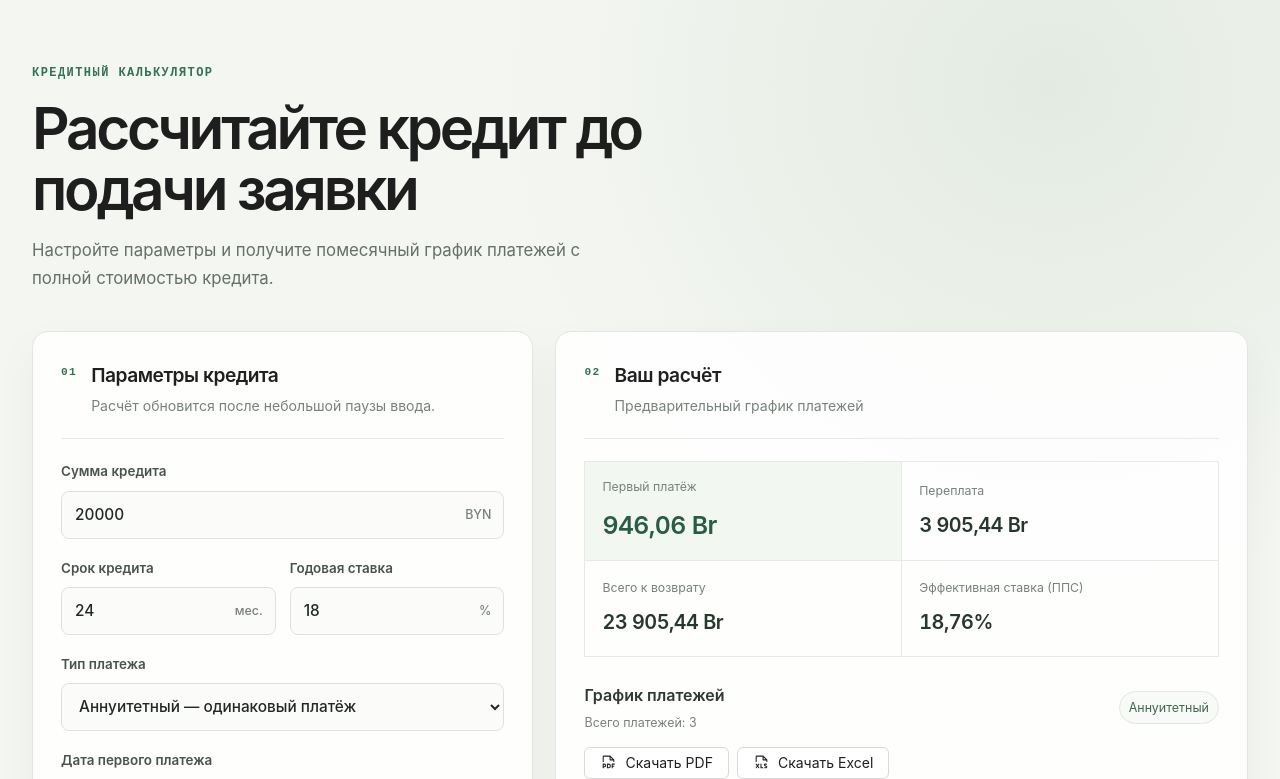
Scenario: CalculatorPage › shows a validation error when the term is out of range
Replace the text in the number field labelled "Срок кредита мес." with "300": (168, 611) [61,587,276,635]
Wait 100 ms
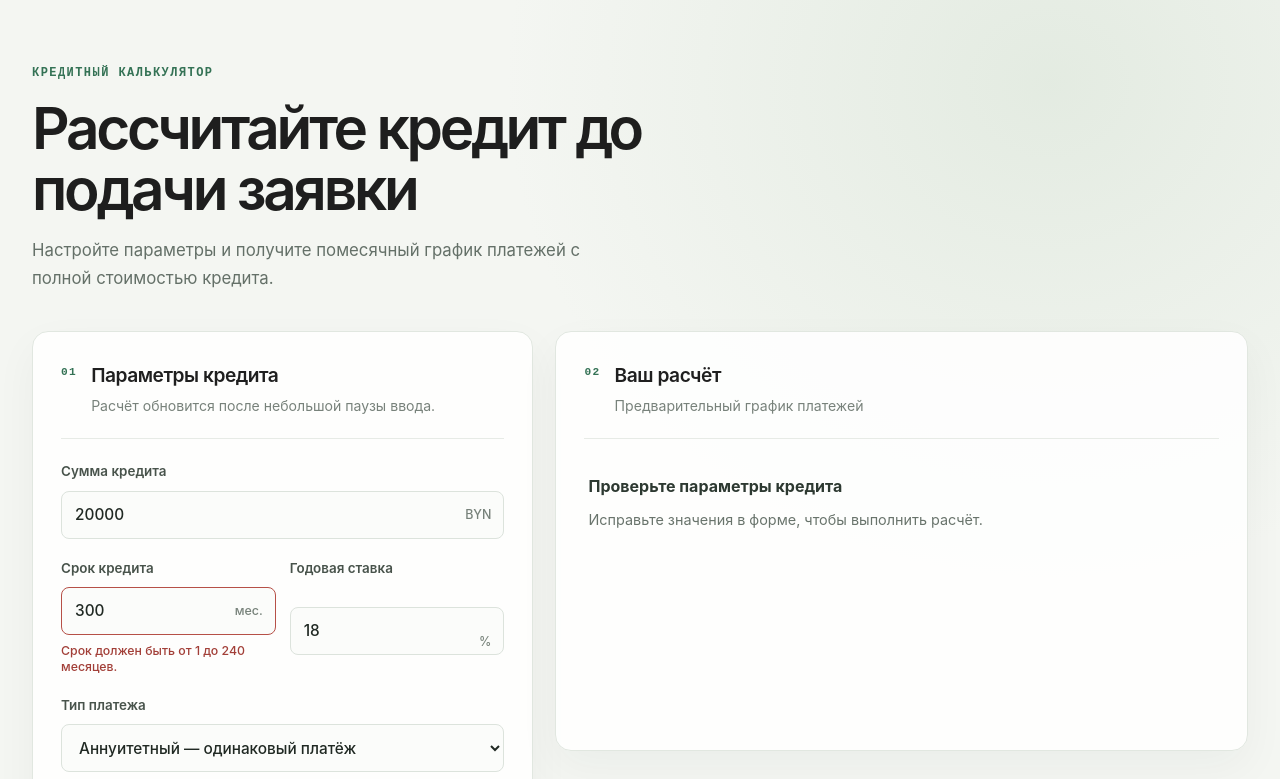
Expected: the text "Срок должен быть от 1 до 240 месяцев." is shown, [61,643,276,676]
